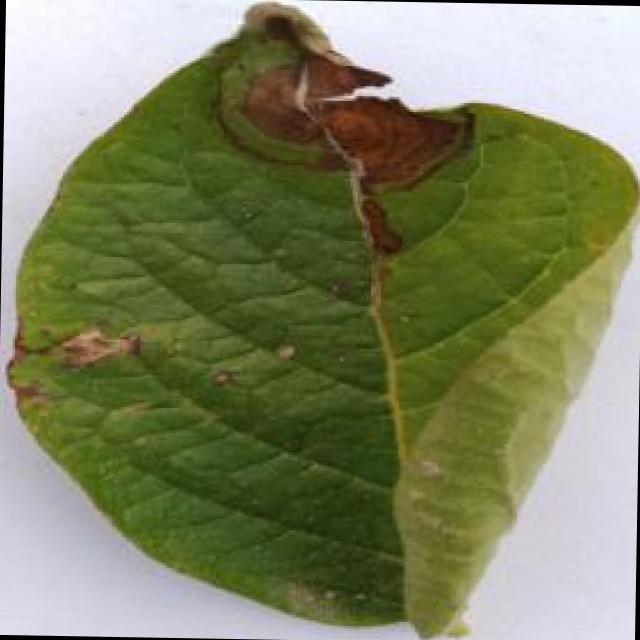Potato_Late_Blight: (3, 1, 632, 640)
